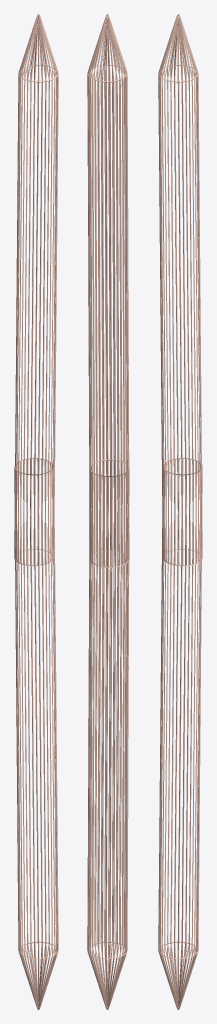
The model's file is needle0-010.glb.
The picture shows the model from 3 angles, left to right: view 1: azimuth 90°, elevation 25°; view 2: azimuth 210°, elevation 25°; view 3: azimuth 270°, elevation 25°; orthographic projection.
Parts seen in each view (by area): view 1: needle0.010; view 2: needle0.010; view 3: needle0.010.
Boxes of the visible parts, <box> form: needle0.010: <box>14,14,58,1009</box>; needle0.010: <box>87,14,129,1009</box>; needle0.010: <box>158,14,202,1009</box>.
Bounding box in the file's own units: 0.6579 × 17.92 × 0.7257.
1 material, 1 textured.
